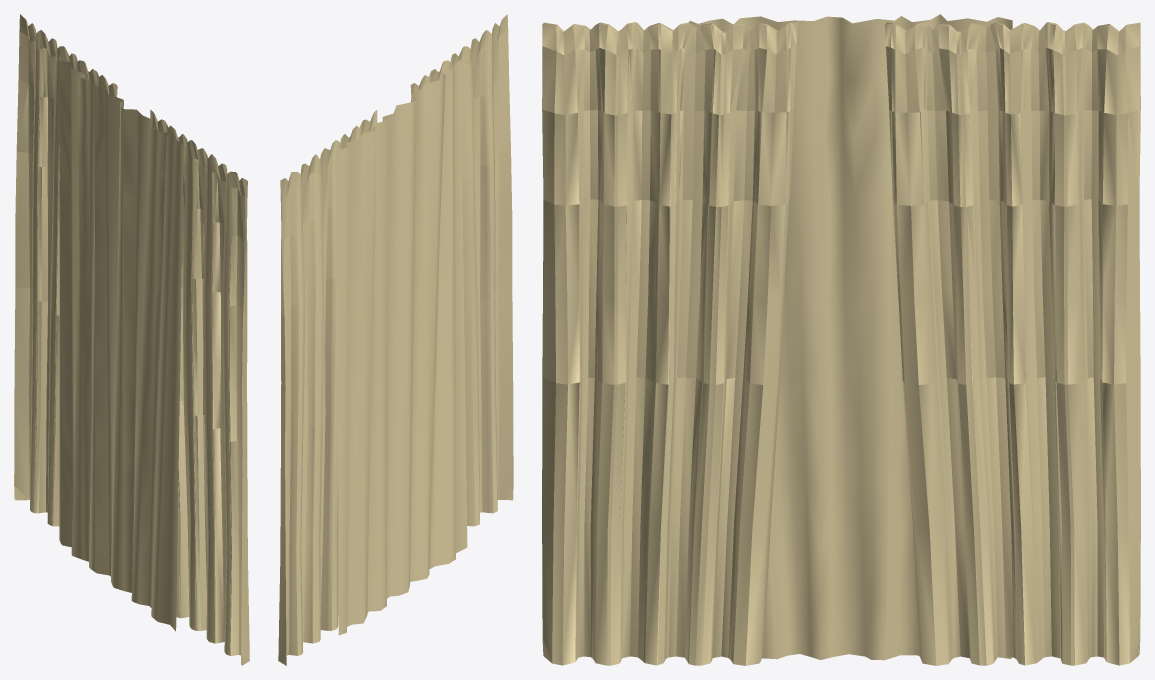
Rendered from HospitalCurtain.fbx.
The picture shows the model from 3 angles, left to right: view 1: azimuth 30°, elevation 25°; view 2: azimuth 150°, elevation 25°; view 3: azimuth 270°, elevation 25°; orthographic projection. The views are drawn at different scales.
Visible parts, largest first — view 1: Curtain1.001, Curtain1; view 2: Curtain1.001, Curtain1; view 3: Curtain1, Curtain1.001.
Part boxes in pixels (bbox=[...]): Curtain1.001: bbox=[14, 14, 246, 664]; Curtain1: bbox=[15, 20, 249, 665]; Curtain1.001: bbox=[278, 14, 513, 665]; Curtain1: bbox=[278, 86, 512, 665]; Curtain1: bbox=[542, 15, 1139, 665]; Curtain1.001: bbox=[543, 14, 1140, 663].
Bounding box in the file's own units: 1.68 × 26.93 × 22.74.
